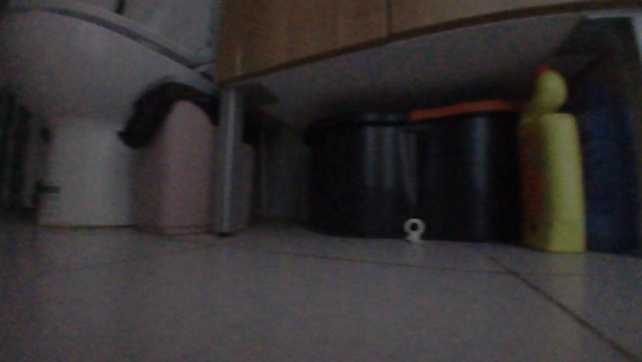toilet: (4, 0, 217, 229)
